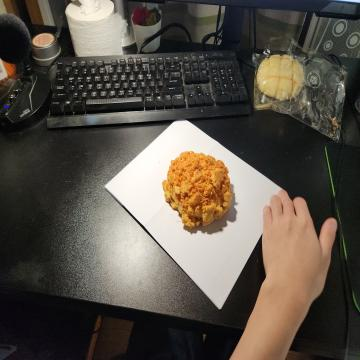soboru_bread: (160, 150, 232, 228)
